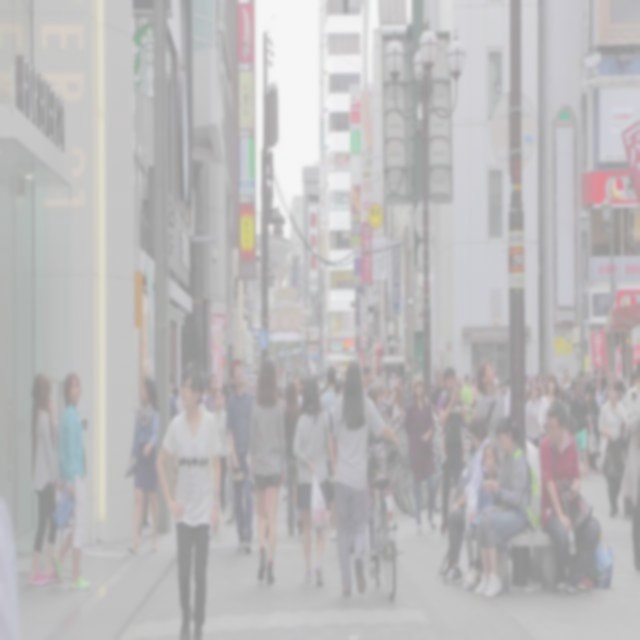pessoa: (154, 361, 224, 639), (330, 357, 399, 599), (538, 398, 601, 598), (472, 413, 532, 600), (292, 374, 338, 588), (48, 369, 92, 592), (247, 354, 288, 590), (439, 412, 492, 586), (26, 371, 68, 588), (224, 356, 256, 556), (127, 374, 162, 556), (402, 370, 438, 534), (462, 440, 500, 592), (436, 365, 468, 540), (594, 380, 629, 520), (364, 384, 389, 563), (371, 365, 411, 468), (0, 493, 27, 639), (624, 356, 640, 576), (281, 378, 302, 538), (474, 357, 506, 459), (580, 368, 608, 481), (210, 386, 232, 518), (437, 373, 467, 467), (136, 29, 170, 99), (568, 378, 590, 478), (458, 370, 478, 470), (538, 373, 562, 439), (429, 366, 446, 458), (554, 369, 574, 442), (522, 436, 542, 496), (250, 482, 270, 540), (524, 384, 542, 448), (318, 364, 340, 414), (201, 372, 226, 414), (168, 372, 186, 423), (494, 373, 510, 420), (226, 456, 236, 523), (324, 456, 332, 532), (618, 372, 638, 402), (361, 364, 373, 396), (280, 458, 288, 502), (536, 372, 547, 404), (198, 376, 208, 410), (221, 374, 233, 402), (294, 372, 304, 403), (314, 373, 328, 395), (332, 374, 346, 396), (276, 384, 287, 409), (523, 374, 529, 404), (528, 376, 536, 386)
